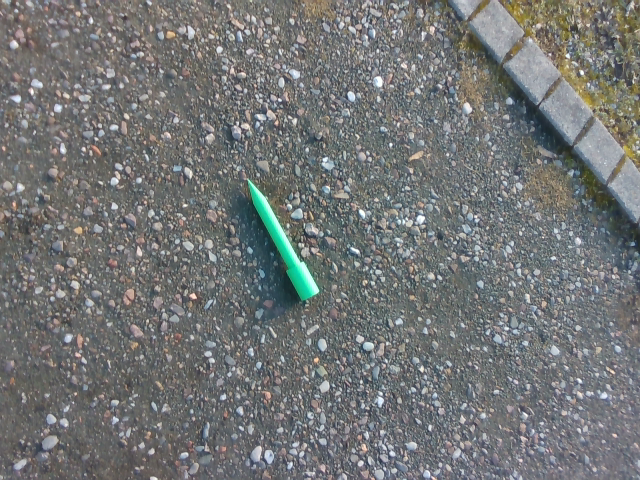Probe: (242, 174, 324, 309)
